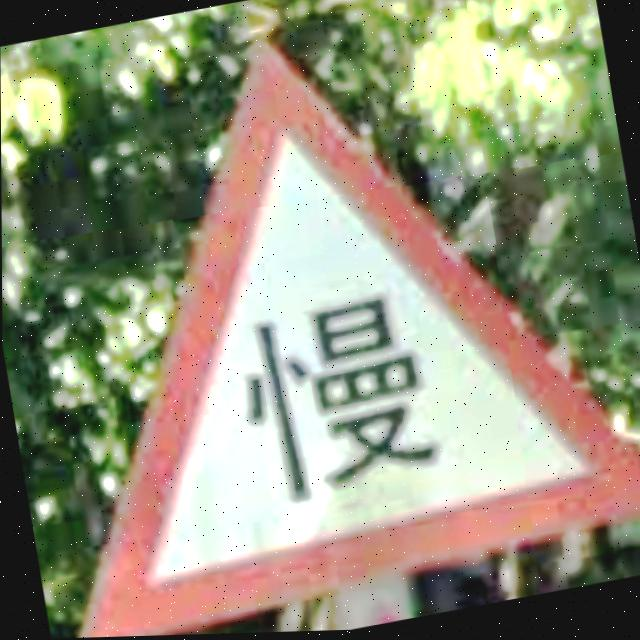slow: (84, 49, 640, 638)
